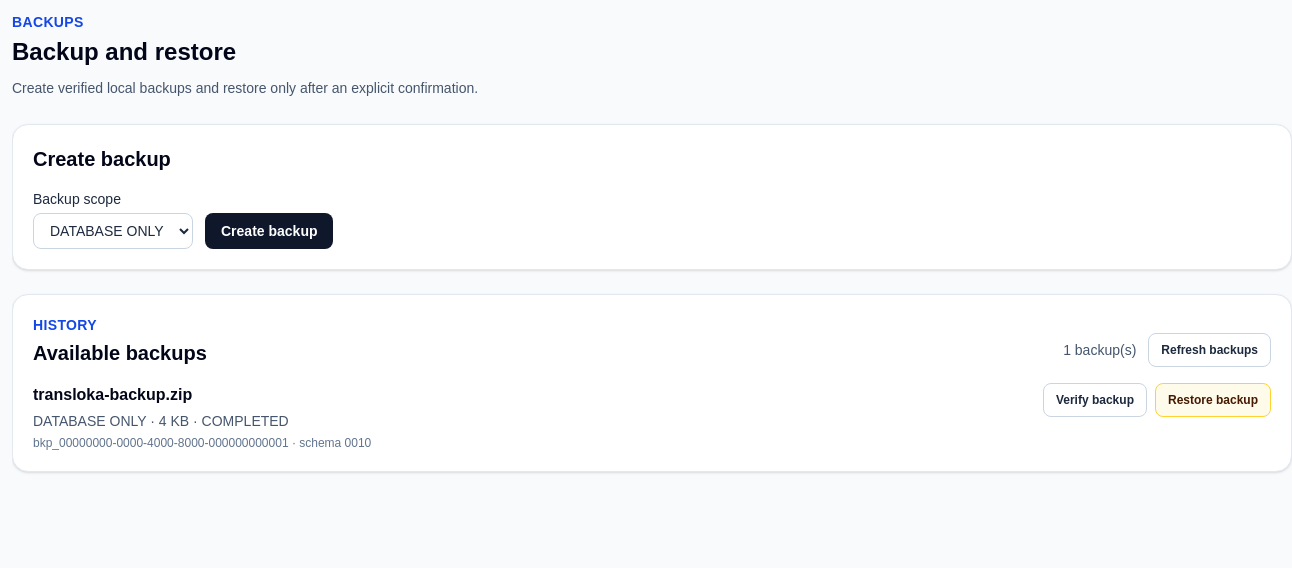
Test: BackupPanel › creates a backup with the selected scope
Expected: the text "transloka-backup.zip" is shown, [33,386,192,403]
Select "FULL PROJECTS" in the dropdown labelled "Backup scope" at (113, 231), box [33,213,193,249]
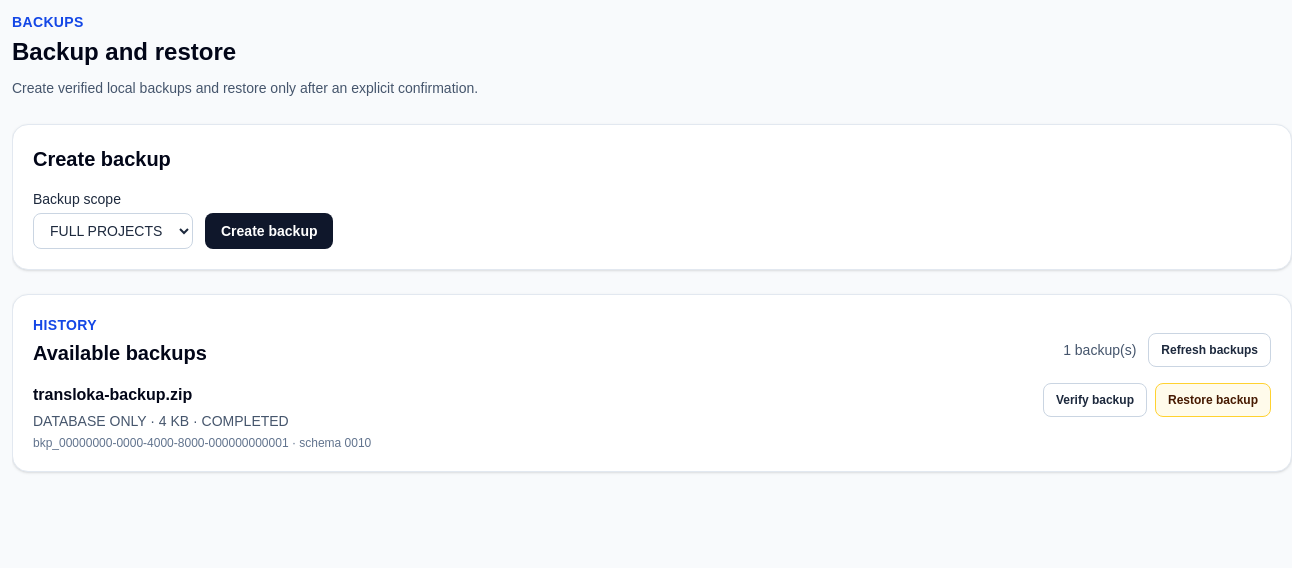
Click the button "Create backup" at (269, 231), box [205,213,334,249]
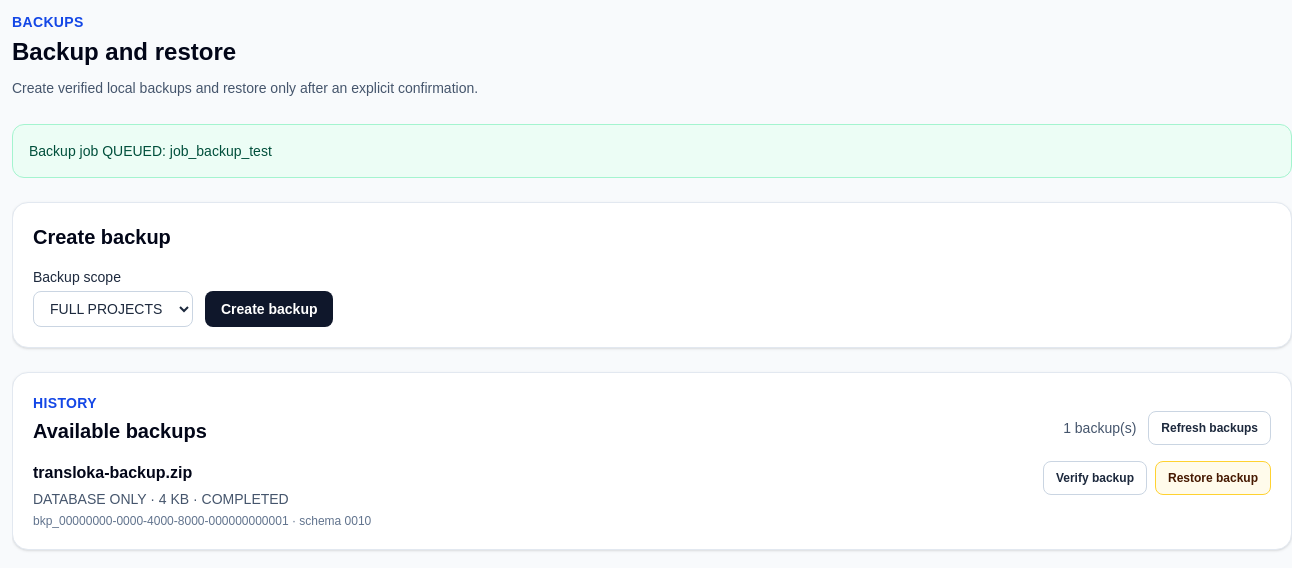
Expected: the text "Backup job QUEUED: job_backup_test" is shown, [12,124,1291,178]
